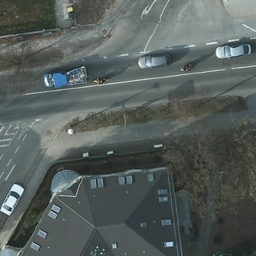car: (1, 183, 24, 215), (214, 42, 254, 59), (139, 51, 169, 67)
